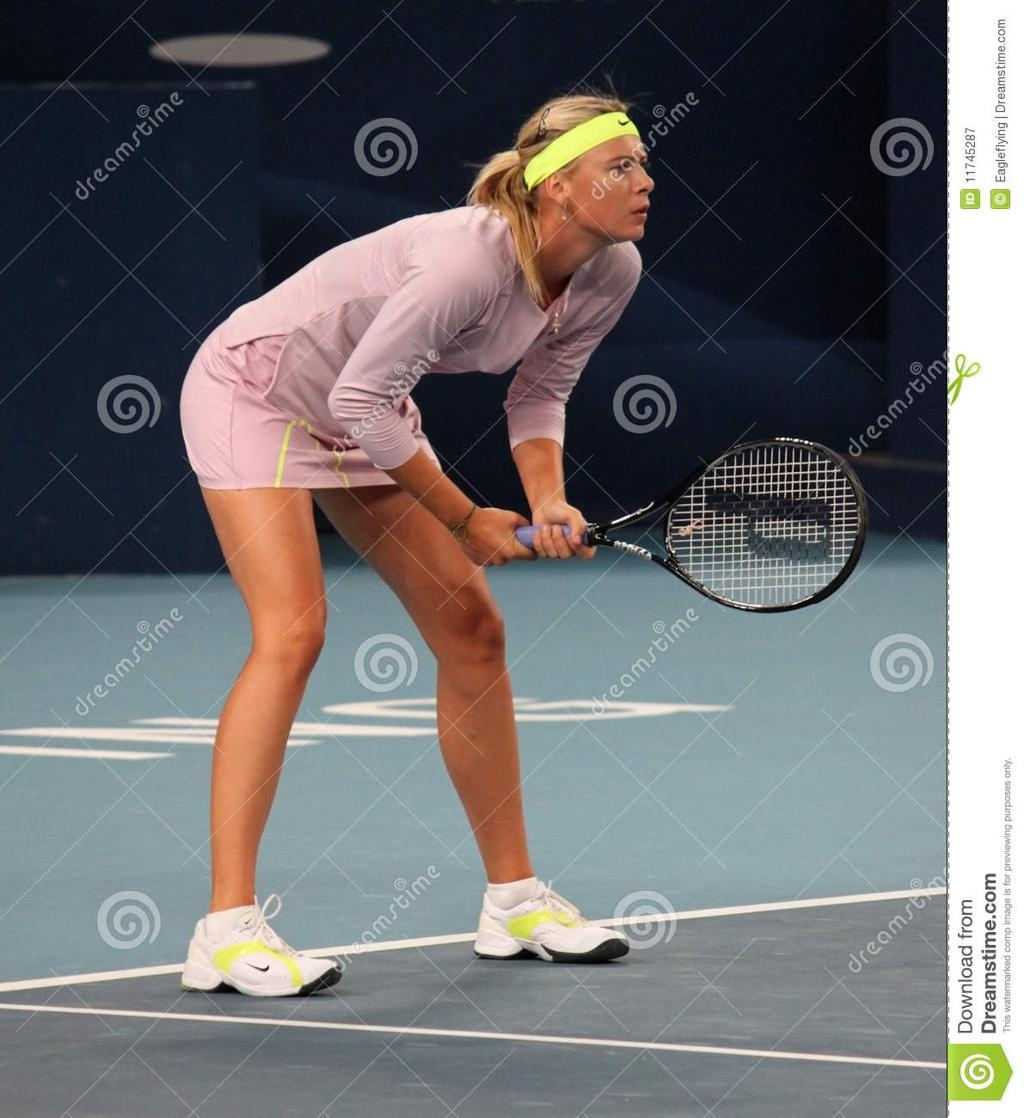face: (572, 109, 657, 236)
